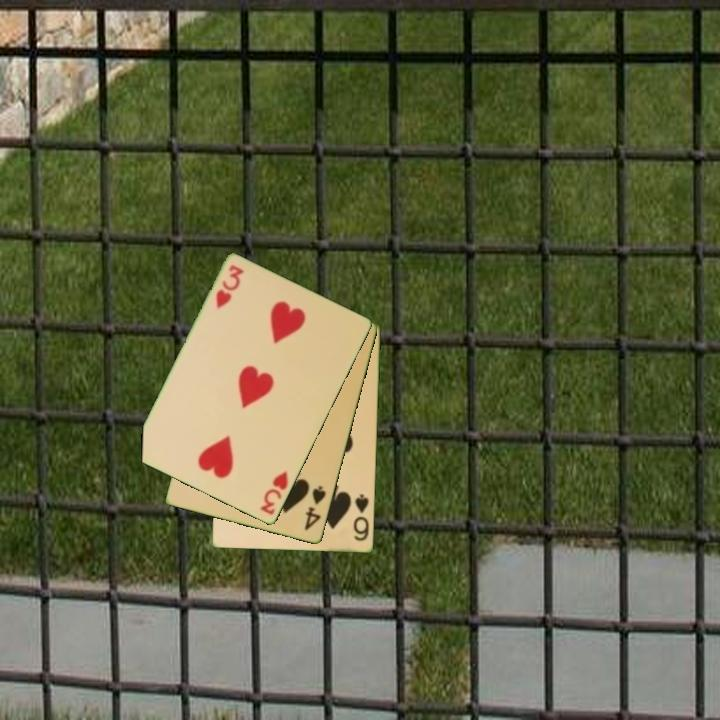3h: (256, 467, 291, 518), (212, 262, 247, 312)
4s: (301, 482, 329, 534)
6s: (350, 491, 372, 544)
